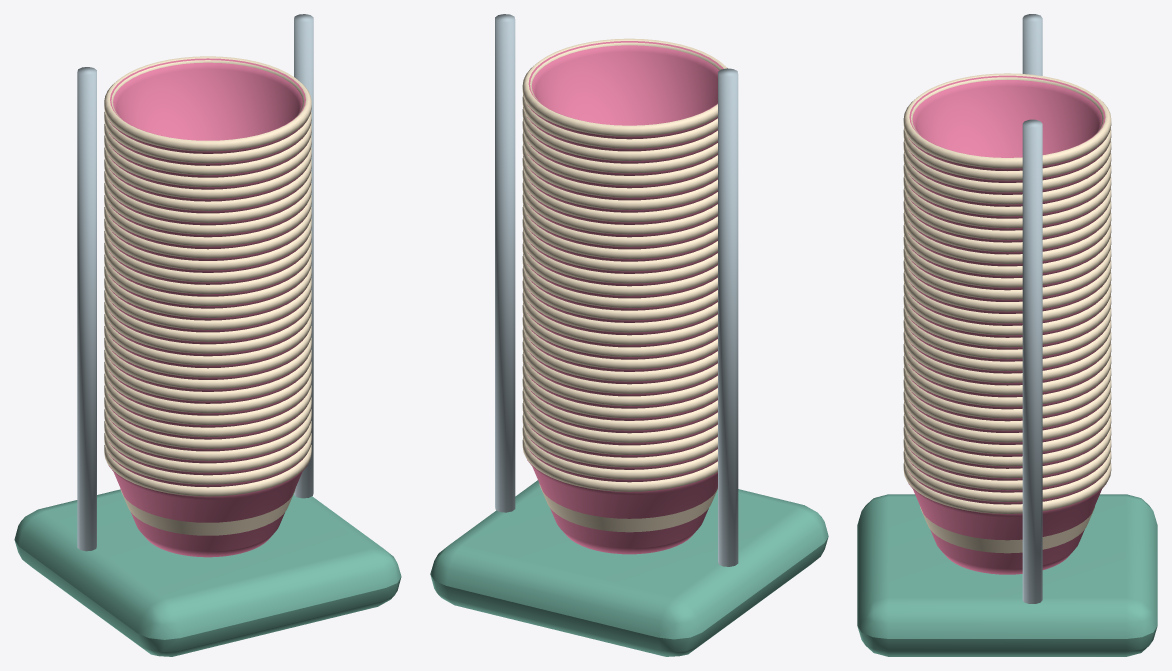
File: Bowl_dispenser_30.fbx
3 views of the same model, side by side, from view 1: azimuth 30°, elevation 25°; view 2: azimuth 150°, elevation 25°; view 3: azimuth 270°, elevation 25° (orthographic). The views are drawn at different scales.
Visible parts, largest first — view 1: Toon_Bowl_dispenser_30 Dispenser foot.001, Toon_Bowl_dispenser_30 Paper bowl.059, Toon_Bowl_dispenser_30 Stack guide.002, Toon_Bowl_dispenser_30 Paper bowl.030, Toon_Bowl_dispenser_30 Rolled paper rim.059, Toon_Bowl_dispenser_30 Stack guide.003, Toon_Bowl_dispenser_30 Rolled paper rim.035, Toon_Bowl_dispenser_30 Rolled paper rim.045, Toon_Bowl_dispenser_30 Rolled paper rim.049, Toon_Bowl_dispenser_30 Rolled paper rim.055, Toon_Bowl_dispenser_30 Rolled paper rim.036, Toon_Bowl_dispenser_30 Rolled paper rim.039 (+26 smaller); view 2: Toon_Bowl_dispenser_30 Dispenser foot.001, Toon_Bowl_dispenser_30 Paper bowl.059, Toon_Bowl_dispenser_30 Stack guide.003, Toon_Bowl_dispenser_30 Stack guide.002, Toon_Bowl_dispenser_30 Paper bowl.030, Toon_Bowl_dispenser_30 Rolled paper rim.059, Toon_Bowl_dispenser_30 Cream band.030, Toon_Bowl_dispenser_30 Rolled paper rim.039, Toon_Bowl_dispenser_30 Rolled paper rim.043, Toon_Bowl_dispenser_30 Rolled paper rim.051, Toon_Bowl_dispenser_30 Rolled paper rim.055, Toon_Bowl_dispenser_30 Rolled paper rim.031 (+24 smaller); view 3: Toon_Bowl_dispenser_30 Dispenser foot.001, Toon_Bowl_dispenser_30 Paper bowl.059, Toon_Bowl_dispenser_30 Stack guide.003, Toon_Bowl_dispenser_30 Paper bowl.030, Toon_Bowl_dispenser_30 Rolled paper rim.059, Toon_Bowl_dispenser_30 Rolled paper rim.044, Toon_Bowl_dispenser_30 Rolled paper rim.055, Toon_Bowl_dispenser_30 Rolled paper rim.032, Toon_Bowl_dispenser_30 Rolled paper rim.033, Toon_Bowl_dispenser_30 Rolled paper rim.034, Toon_Bowl_dispenser_30 Rolled paper rim.043, Toon_Bowl_dispenser_30 Rolled paper rim.054 (+52 smaller).
Part boxes in pixels (x1=…): Toon_Bowl_dispenser_30 Dispenser foot.001: x1=14, y1=489, x2=401, y2=656; Toon_Bowl_dispenser_30 Paper bowl.059: x1=108, y1=58, x2=307, y2=153; Toon_Bowl_dispenser_30 Stack guide.002: x1=77, y1=67, x2=96, y2=551; Toon_Bowl_dispenser_30 Paper bowl.030: x1=108, y1=465, x2=307, y2=557; Toon_Bowl_dispenser_30 Rolled paper rim.059: x1=104, y1=56, x2=311, y2=151; Toon_Bowl_dispenser_30 Stack guide.003: x1=294, y1=14, x2=313, y2=498; Toon_Bowl_dispenser_30 Rolled paper rim.035: x1=104, y1=385, x2=311, y2=436; Toon_Bowl_dispenser_30 Rolled paper rim.045: x1=104, y1=266, x2=311, y2=317; Toon_Bowl_dispenser_30 Rolled paper rim.049: x1=104, y1=219, x2=311, y2=270; Toon_Bowl_dispenser_30 Rolled paper rim.055: x1=104, y1=147, x2=311, y2=198; Toon_Bowl_dispenser_30 Rolled paper rim.036: x1=104, y1=373, x2=311, y2=425; Toon_Bowl_dispenser_30 Rolled paper rim.039: x1=104, y1=338, x2=311, y2=389; Toon_Bowl_dispenser_30 Dispenser foot.001: x1=430, y1=480, x2=828, y2=656; Toon_Bowl_dispenser_30 Paper bowl.059: x1=527, y1=41, x2=723, y2=139; Toon_Bowl_dispenser_30 Stack guide.003: x1=495, y1=14, x2=515, y2=512; Toon_Bowl_dispenser_30 Stack guide.002: x1=718, y1=68, x2=738, y2=566; Toon_Bowl_dispenser_30 Paper bowl.030: x1=527, y1=460, x2=717, y2=554; Toon_Bowl_dispenser_30 Rolled paper rim.059: x1=522, y1=38, x2=727, y2=136; Toon_Bowl_dispenser_30 Cream band.030: x1=539, y1=484, x2=717, y2=532; Toon_Bowl_dispenser_30 Rolled paper rim.039: x1=522, y1=328, x2=717, y2=381; Toon_Bowl_dispenser_30 Rolled paper rim.043: x1=522, y1=279, x2=717, y2=332; Toon_Bowl_dispenser_30 Rolled paper rim.051: x1=522, y1=181, x2=717, y2=234; Toon_Bowl_dispenser_30 Rolled paper rim.055: x1=522, y1=132, x2=717, y2=185; Toon_Bowl_dispenser_30 Rolled paper rim.031: x1=522, y1=426, x2=717, y2=479; Toon_Bowl_dispenser_30 Dispenser foot.001: x1=857, y1=494, x2=1157, y2=656; Toon_Bowl_dispenser_30 Paper bowl.059: x1=908, y1=75, x2=1106, y2=170; Toon_Bowl_dispenser_30 Stack guide.003: x1=1022, y1=119, x2=1042, y2=603; Toon_Bowl_dispenser_30 Paper bowl.030: x1=908, y1=483, x2=1106, y2=574; Toon_Bowl_dispenser_30 Rolled paper rim.059: x1=903, y1=73, x2=1111, y2=168; Toon_Bowl_dispenser_30 Rolled paper rim.044: x1=903, y1=295, x2=1111, y2=347; Toon_Bowl_dispenser_30 Rolled paper rim.055: x1=903, y1=164, x2=1111, y2=216; Toon_Bowl_dispenser_30 Rolled paper rim.032: x1=903, y1=438, x2=1111, y2=490; Toon_Bowl_dispenser_30 Rolled paper rim.033: x1=903, y1=426, x2=1111, y2=478; Toon_Bowl_dispenser_30 Rolled paper rim.034: x1=903, y1=414, x2=1111, y2=466; Toon_Bowl_dispenser_30 Rolled paper rim.043: x1=903, y1=307, x2=1111, y2=359; Toon_Bowl_dispenser_30 Rolled paper rim.054: x1=903, y1=176, x2=1111, y2=228.
Bounding box in the file's own units: 24 × 47 × 24.
